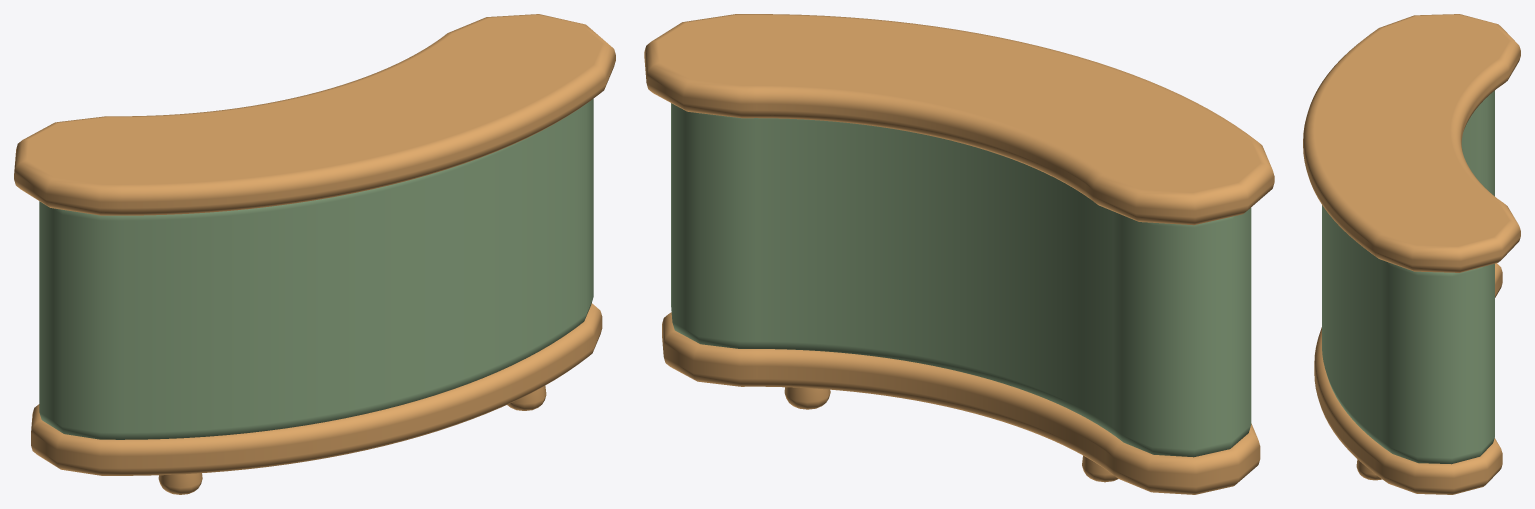
File: 08-curved-counter.glb
3 views of the same model, side by side, from view 1: azimuth 30°, elevation 25°; view 2: azimuth 150°, elevation 25°; view 3: azimuth 270°, elevation 25° (orthographic). The views are drawn at different scales.
Visible parts, largest first — view 1: 08-curved-counter_mesh; view 2: 08-curved-counter_mesh; view 3: 08-curved-counter_mesh.
Part boxes in pixels (x1,y1,x2,y2): 08-curved-counter_mesh: (14,14,615,494); 08-curved-counter_mesh: (644,14,1274,494); 08-curved-counter_mesh: (1303,14,1520,494).
Bounding box in the file's own units: 1.51 × 0.8 × 0.5775.
